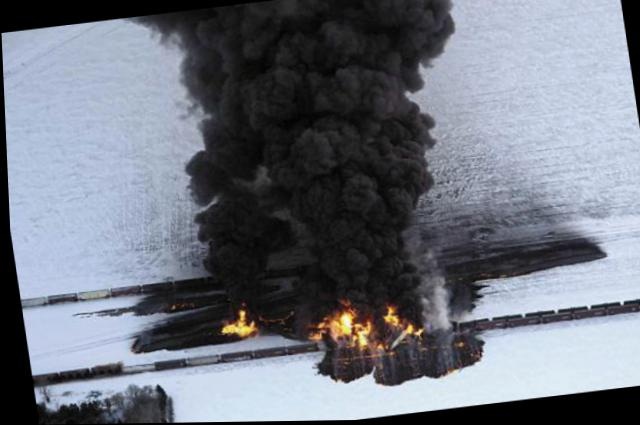fire: (217, 307, 252, 337), (319, 308, 346, 336), (376, 305, 396, 326), (348, 325, 367, 347)
